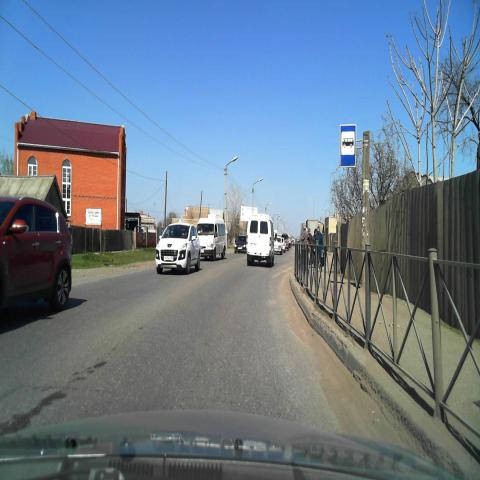5_16: (340, 124, 356, 167)
